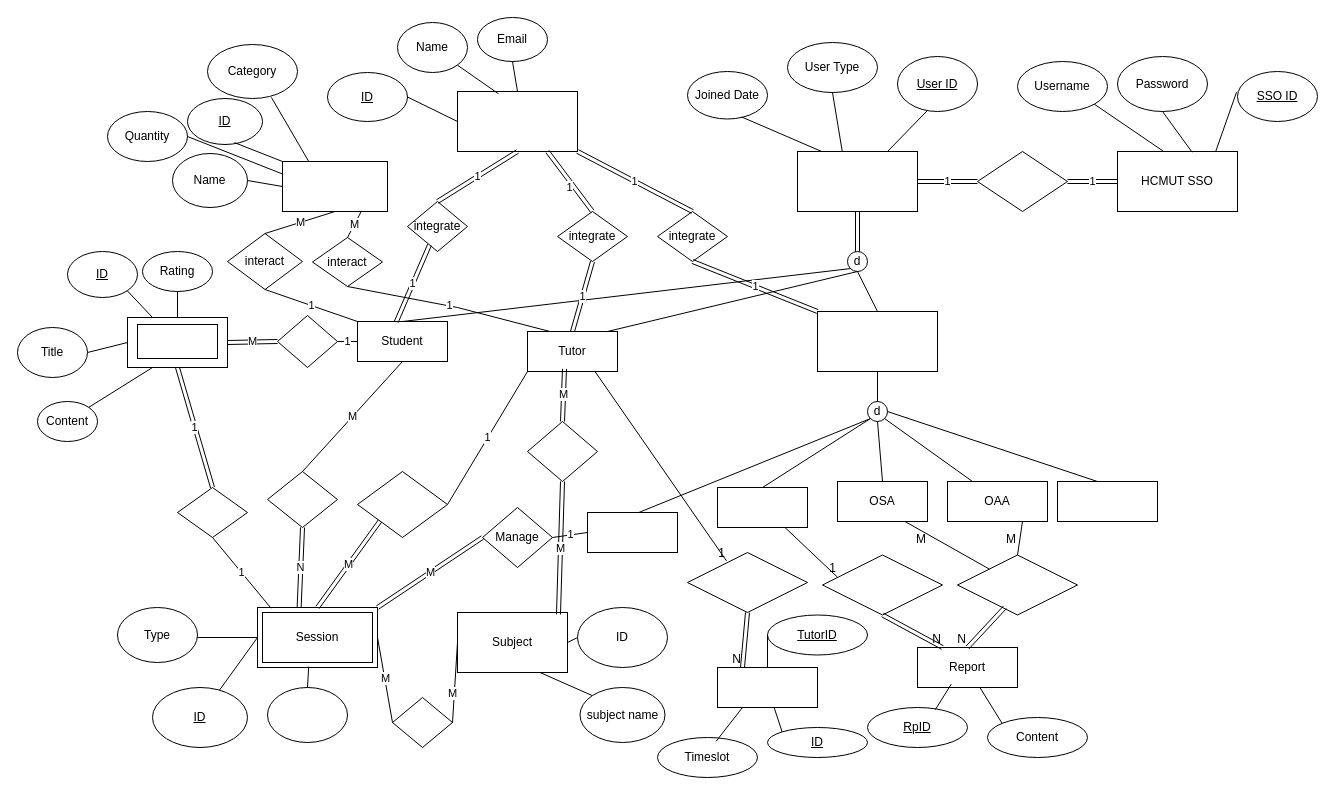
This 1335x795 diagram has some shape labels left out. The box of each missing label's shape, as (x1, y1, x2, y2) in pixels:
about: (392, 696, 452, 748)
Adminstrator: (1056, 480, 1158, 522)
Analyse: (956, 554, 1078, 615)
authenticate: (976, 150, 1068, 212)
Availability: (716, 666, 818, 708)
Coordinator: (586, 512, 678, 552)
Department Chair: (716, 486, 808, 528)
enroll: (266, 470, 338, 528)
Feedback: (136, 324, 218, 358)
give fb: (276, 314, 338, 368)
have: (176, 486, 248, 538)
HCMUT DATACORE: (456, 90, 578, 152)
HCMUT LIBRARY: (282, 160, 388, 212)
host: (356, 470, 448, 538)
Register: (526, 420, 598, 482)
Set: (686, 552, 808, 612)
Staff: (816, 310, 938, 372)
Time: (266, 686, 348, 742)
Users: (796, 150, 918, 212)
Write: (822, 554, 942, 615)
